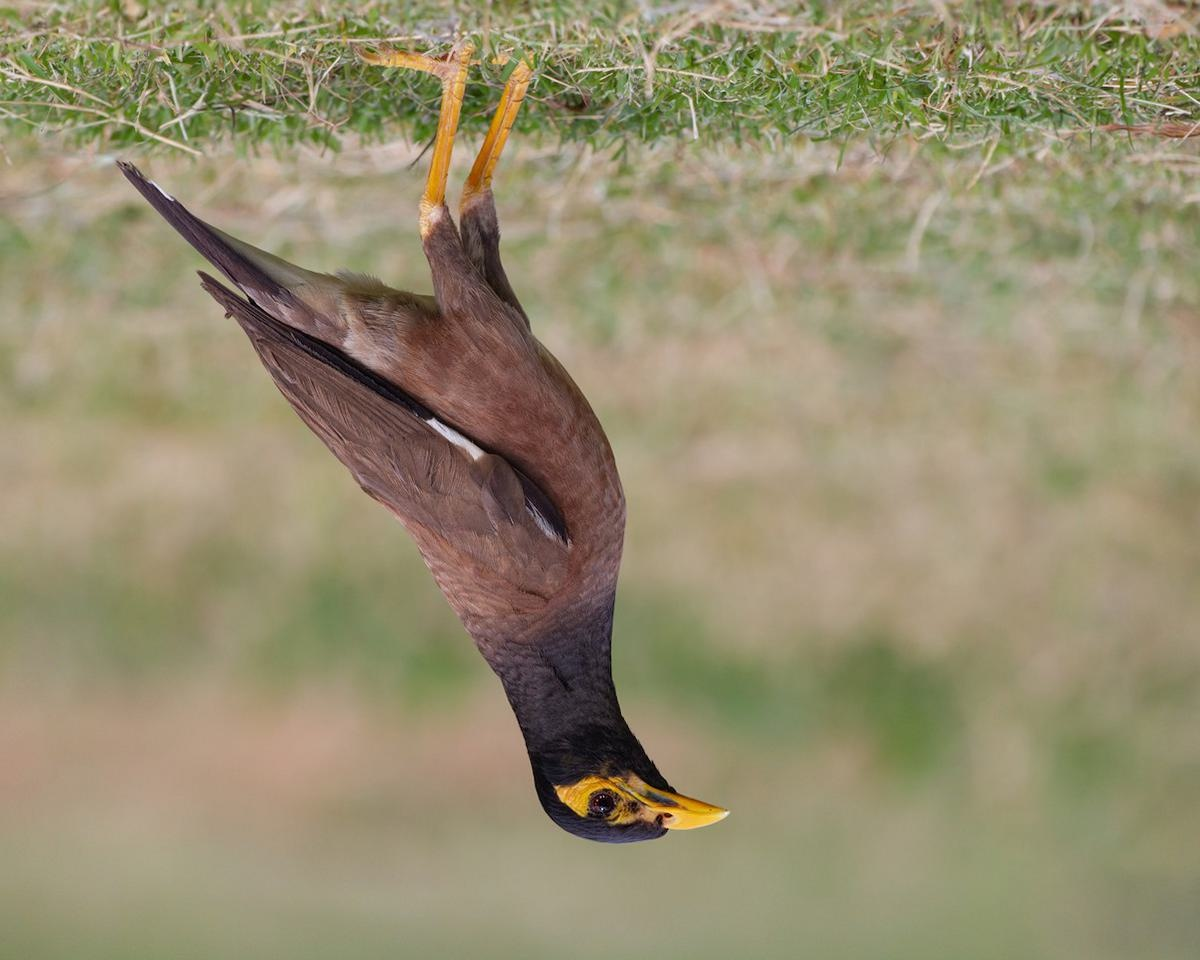myna: (224, 89, 732, 867)
